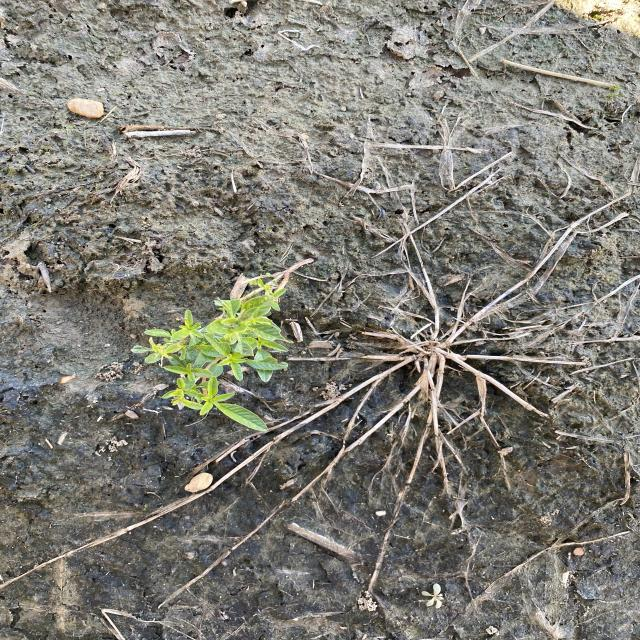Waterhemp: (127, 272, 296, 434)
